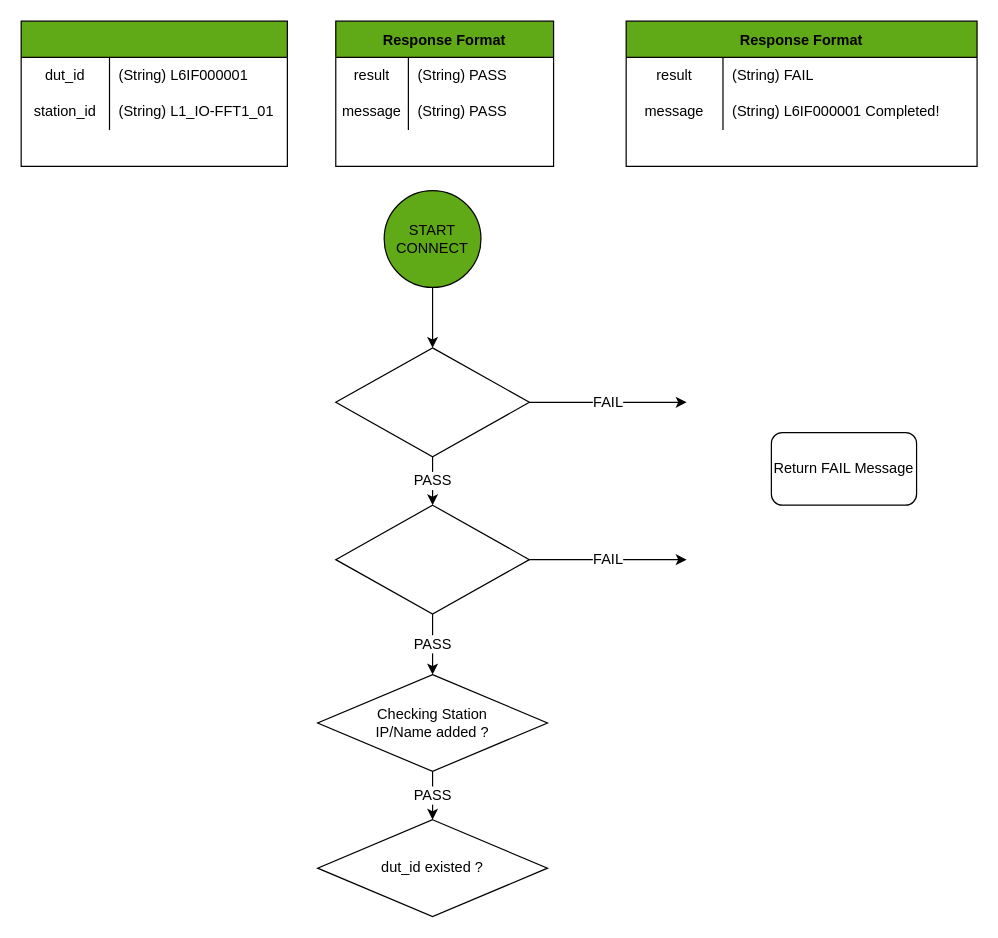
The diagram is 998 pixels wide and 938 high, and some of its shapes have lost their labels. Each missing label, with the box of its shape:
CONNECT API Send Format: (20, 20, 287, 166)
Validate Client Data: (335, 347, 529, 457)
Validate Value Data ?: (335, 504, 529, 614)
